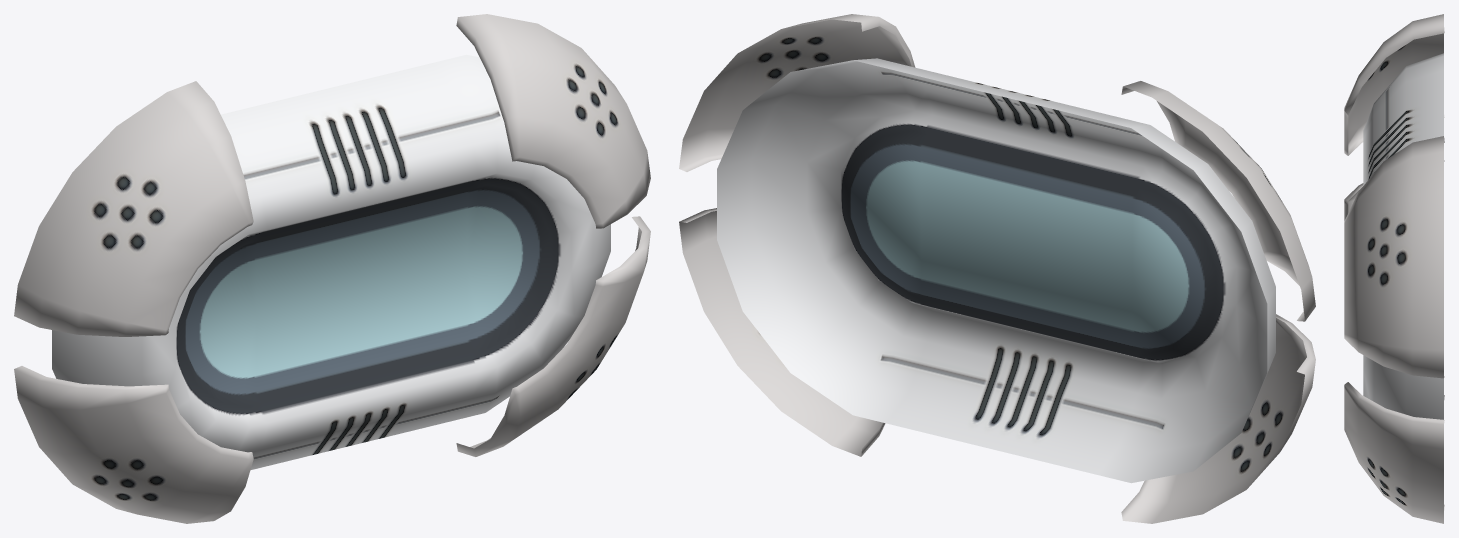
File: Bulkhead_light.fbx
The picture shows the model from 3 angles, left to right: view 1: azimuth 30°, elevation 25°; view 2: azimuth 150°, elevation 25°; view 3: azimuth 270°, elevation 25°; orthographic projection. The views are drawn at different scales.
Visible parts, largest first — view 1: Bulkhead_light; view 2: Bulkhead_light; view 3: Bulkhead_light.
Part boxes in pixels (x1=…): Bulkhead_light: x1=14, y1=14, x2=650, y2=523; Bulkhead_light: x1=679, y1=14, x2=1315, y2=523; Bulkhead_light: x1=1344, y1=14, x2=1444, y2=523.
Bounding box in the file's own units: 74.21 × 49.21 × 11.87.
1 material, 1 textured.
